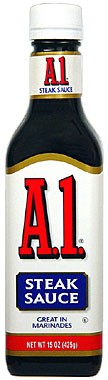grozi_112: (4, 1, 104, 376)
